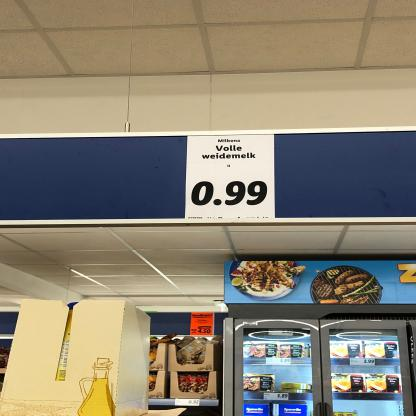prtg: (186, 136, 276, 220)
